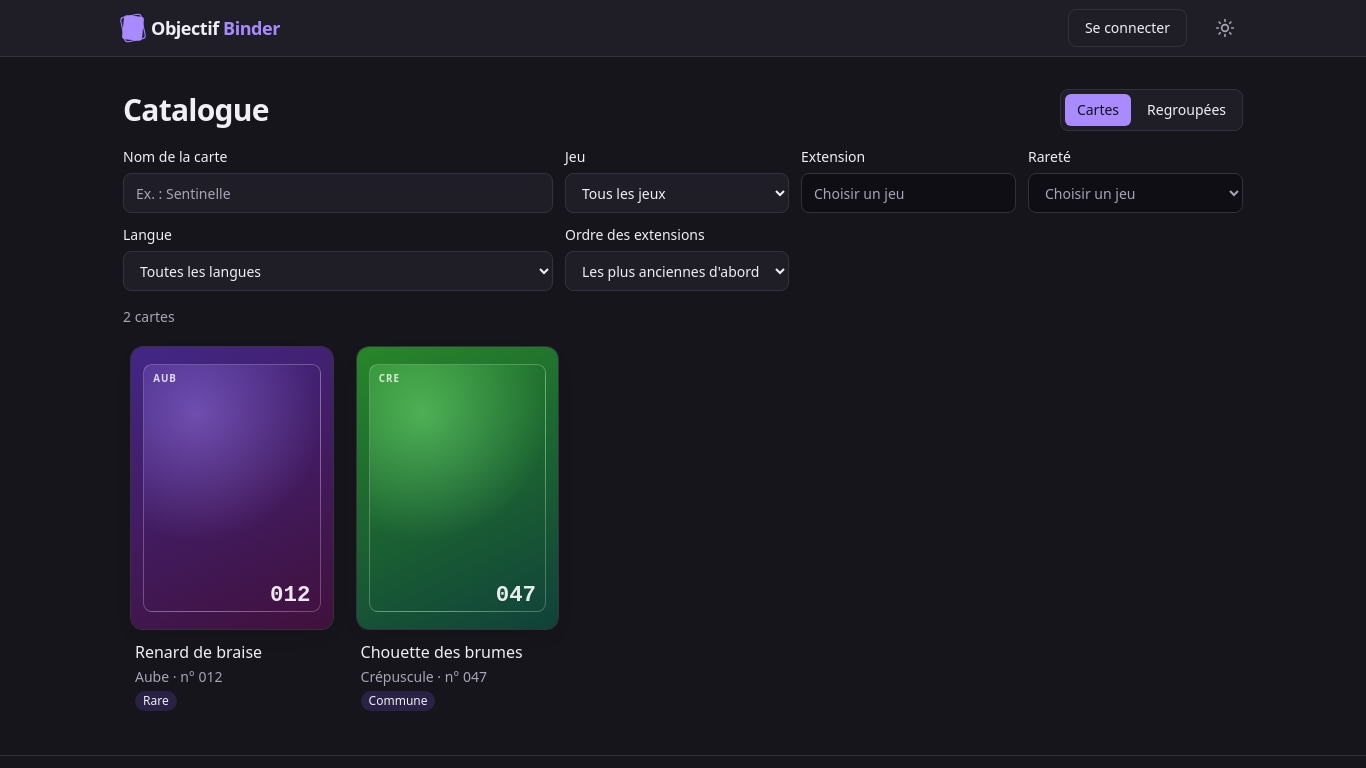
Test: LoginPage › is reached from the header by a visitor
Click the link "Se connecter".
click(1127, 28)  # box [1068, 9, 1187, 47]
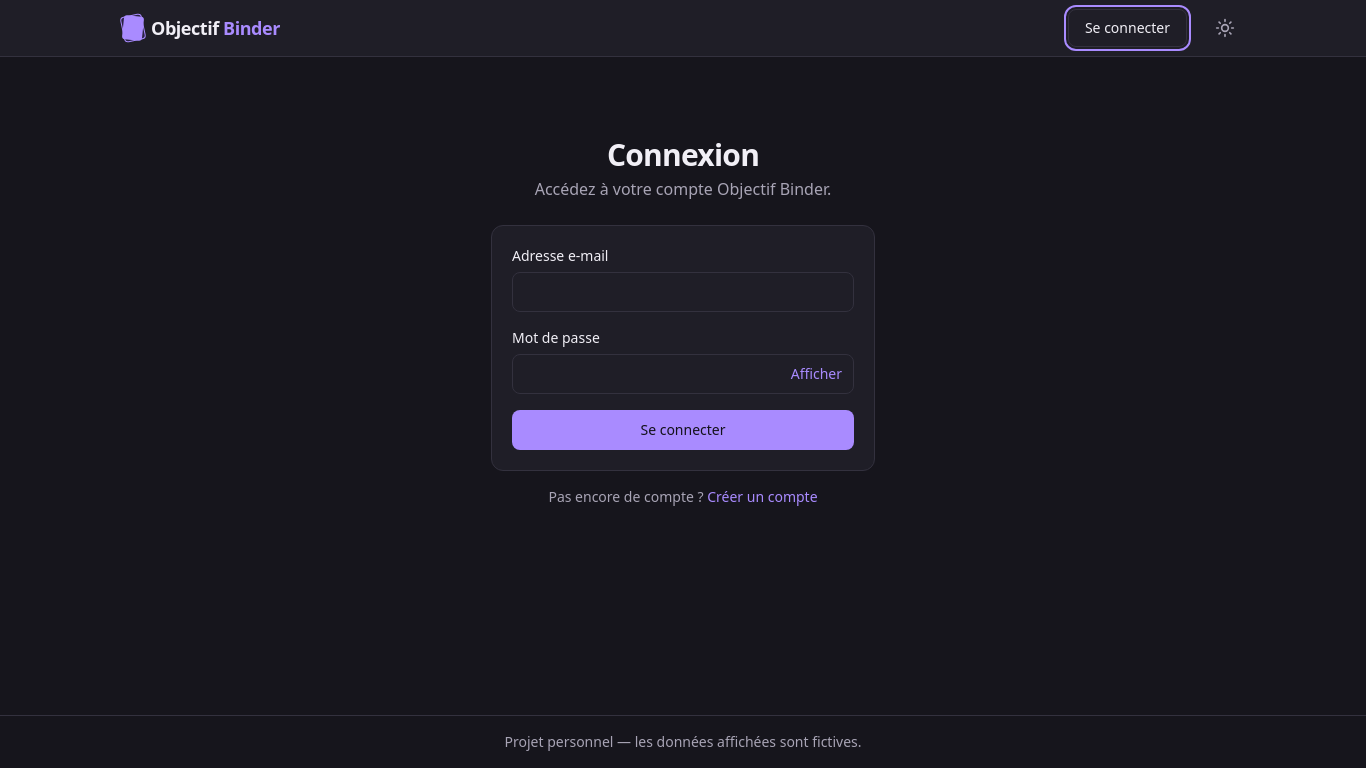
Expected: the heading "Connexion" is shown, [607, 134, 759, 175]
